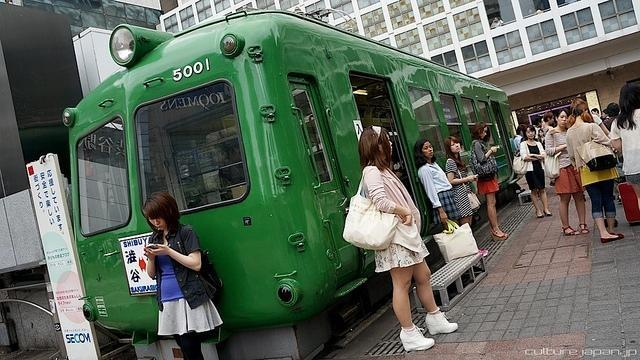bus: (70, 13, 525, 337)
